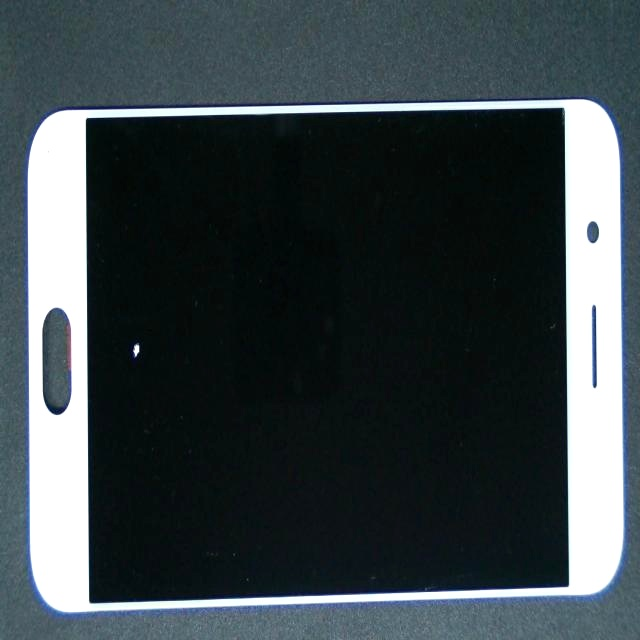stain: (65, 192, 195, 577)
